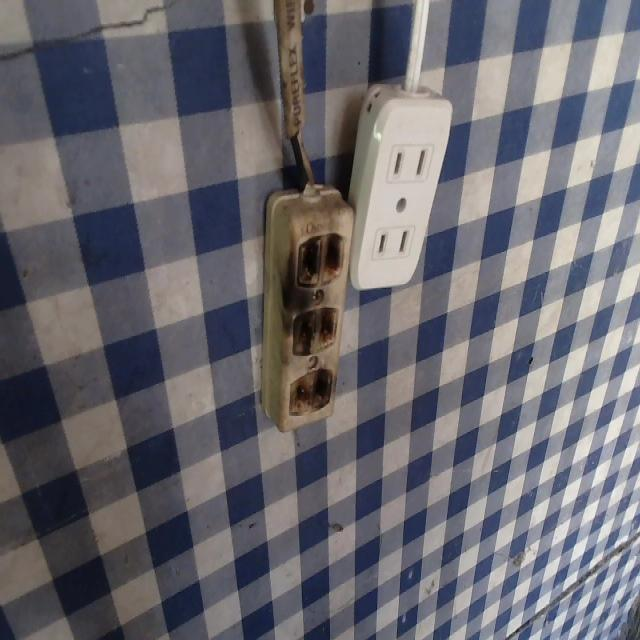-: (290, 227, 352, 288), (289, 305, 347, 364), (287, 363, 342, 424)
